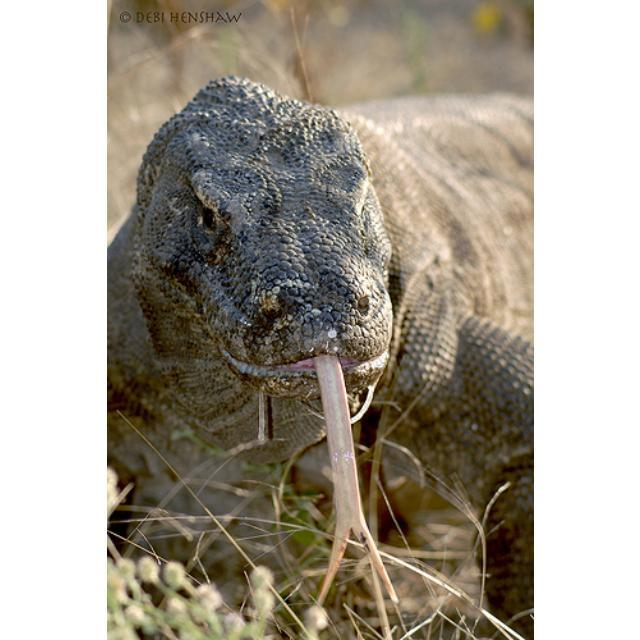KomodoDragon: (107, 76, 530, 607)
